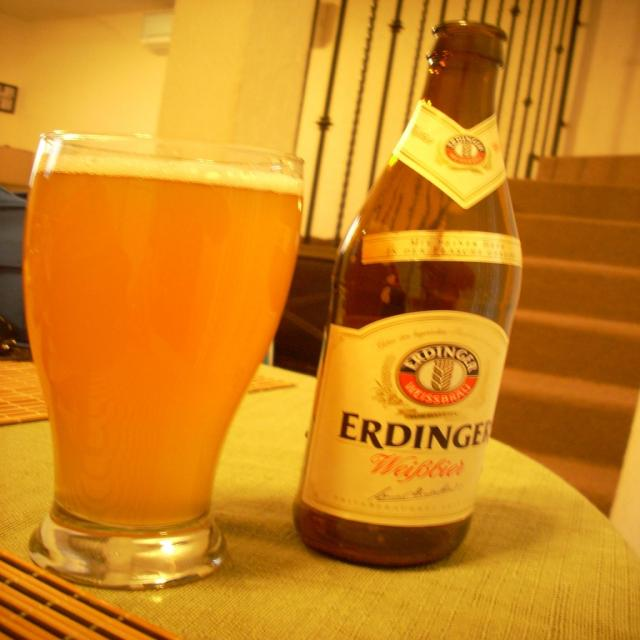erdinger: (334, 326, 502, 457), (439, 133, 495, 176)
